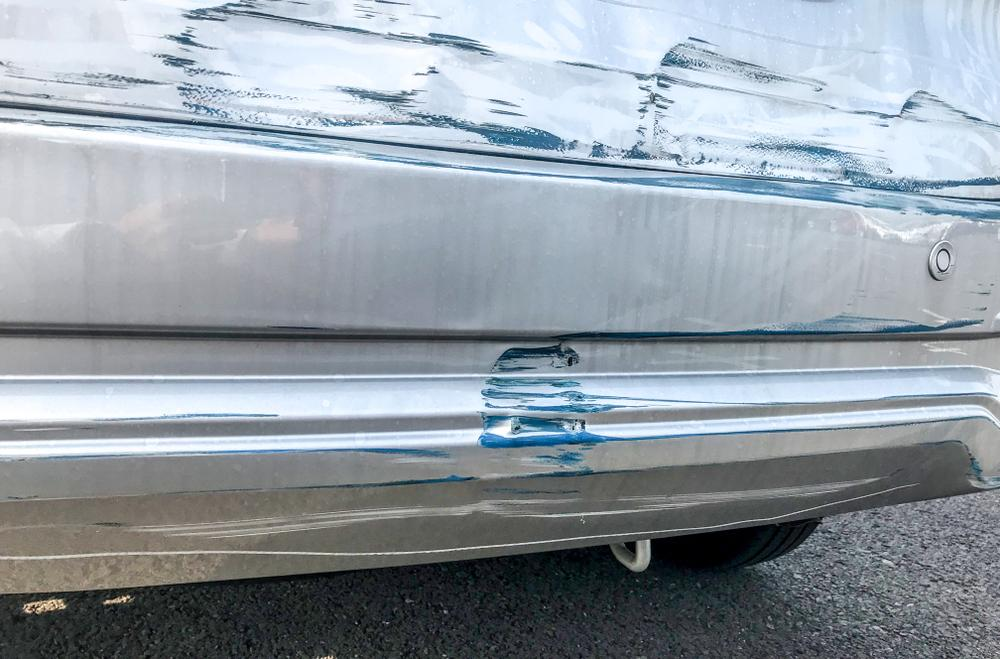scratch: (0, 305, 1000, 584), (0, 0, 1000, 199), (0, 107, 1000, 222)
